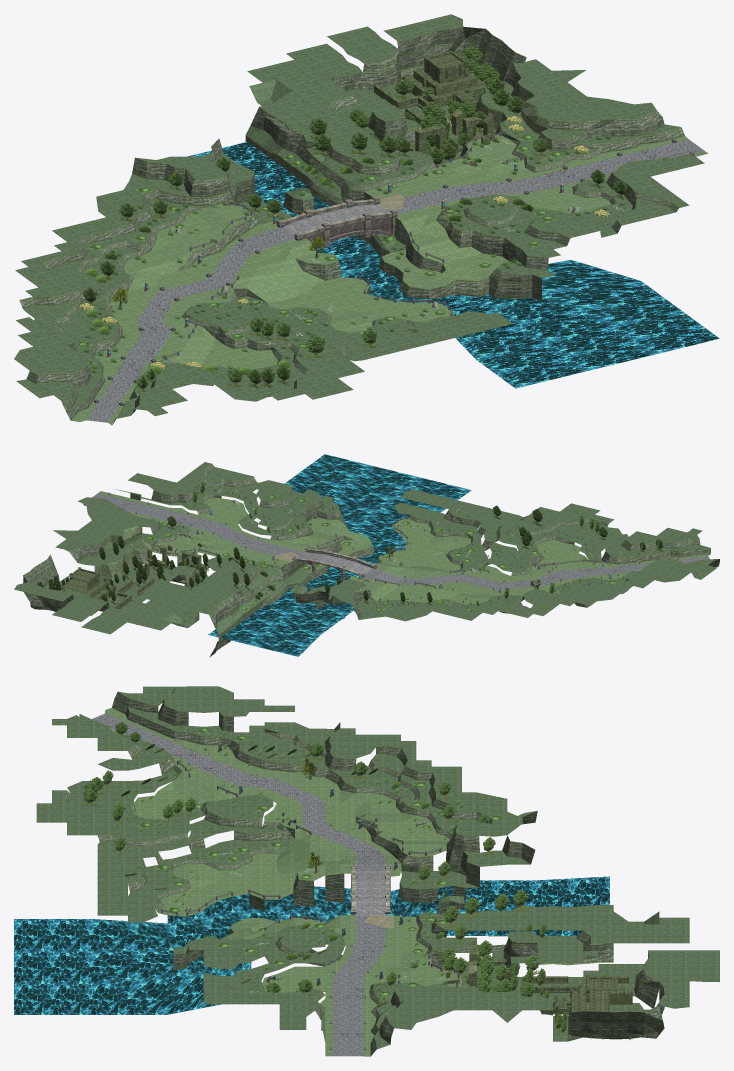
File: East2.obj
3 views of the same model, one above another, from view 1: azimuth 30°, elevation 25°; view 2: azimuth 150°, elevation 25°; view 3: azimuth 270°, elevation 25° (orthographic). The views are drawn at different scales.
Parts seen in each view (by area): view 1: Object.375, Object.374, Object.360, Object.373, Object.372, Object.123, Object.197, Object.199, Object.133, Object.121, Object.208, Object.23 (+101 smaller); view 2: Object.197, Object.372, Object.373, Object.374, Object.199, Object.364, Object.208, Object.121, Object.182, Object.196, Object.184, Object.162 (+94 smaller); view 3: Object.375, Object.374, Object.361, Object.360, Object.372, Object.373, Object.197, Object.196, Object.123, Object.121, Object.208, Object.177 (+88 smaller).
Part boxes in pixels (x1,y1,x2,y2): Object.375: [542, 281, 680, 326]; Object.374: [494, 293, 611, 342]; Object.360: [476, 343, 582, 388]; Object.373: [613, 310, 719, 355]; Object.372: [544, 326, 651, 371]; Object.123: [209, 254, 316, 307]; Object.197: [257, 74, 364, 120]; Object.199: [286, 30, 390, 78]; Object.133: [123, 235, 208, 287]; Object.121: [318, 285, 424, 324]; Object.208: [251, 355, 364, 400]; Object.23: [396, 27, 465, 81]; Object.197: [138, 593, 215, 627]; Object.372: [346, 466, 422, 498]; Object.373: [297, 454, 373, 486]; Object.374: [334, 487, 393, 524]; Object.199: [62, 597, 131, 634]; Object.364: [250, 614, 348, 644]; Object.208: [537, 503, 613, 538]; Object.121: [393, 529, 454, 561]; Object.182: [411, 498, 479, 533]; Object.196: [167, 566, 244, 599]; Object.184: [464, 512, 522, 545]; Object.162: [182, 462, 253, 497]; Object.375: [90, 974, 190, 1014]; Object.374: [90, 950, 190, 982]; Object.361: [90, 919, 180, 950]; Object.360: [14, 919, 89, 950]; Object.372: [14, 951, 89, 982]; Object.373: [14, 983, 89, 1014]; Object.197: [568, 911, 647, 951]; Object.196: [492, 907, 568, 958]; Object.123: [264, 829, 341, 874]; Object.121: [185, 873, 264, 906]; Object.208: [36, 790, 130, 835]; Object.177: [340, 747, 417, 789].
Bounding box in the file's own units: 224 × 28.6 × 186.
Materials: 23 (23 with a texture image).
